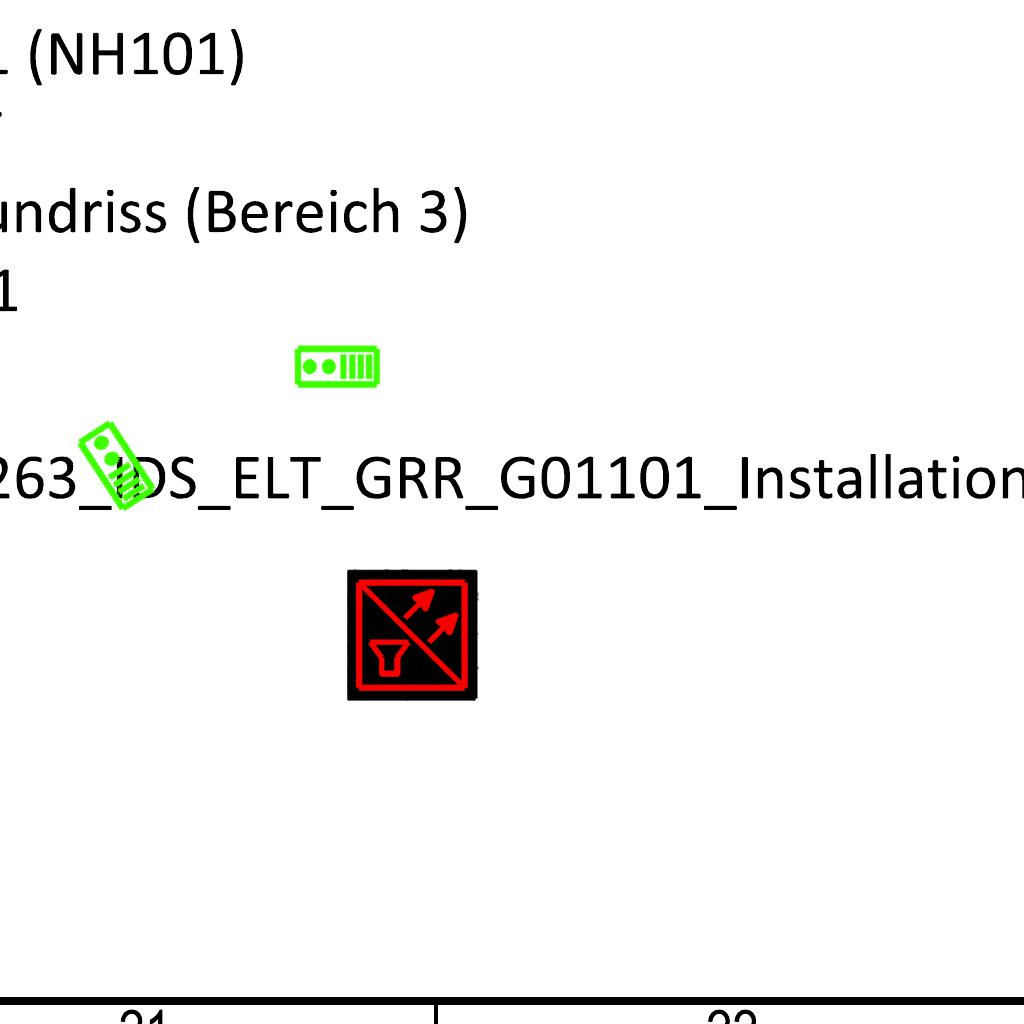Gegensprechanlage_mit_Video: (71, 416, 160, 516), (293, 344, 381, 391)
OKW_Multisensormelder_(Kombination_optischer_Rauch-Kahlenmonoxid_Waerme-Melder): (347, 569, 479, 701)
